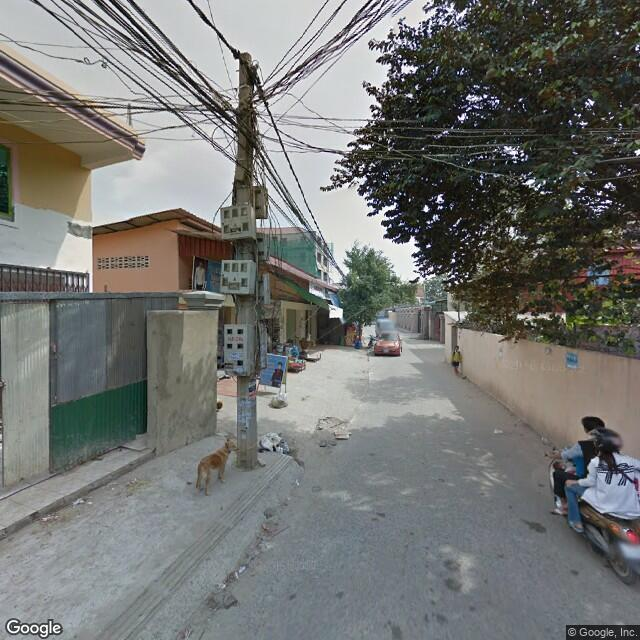litter: (259, 431, 298, 455), (322, 418, 352, 442)
